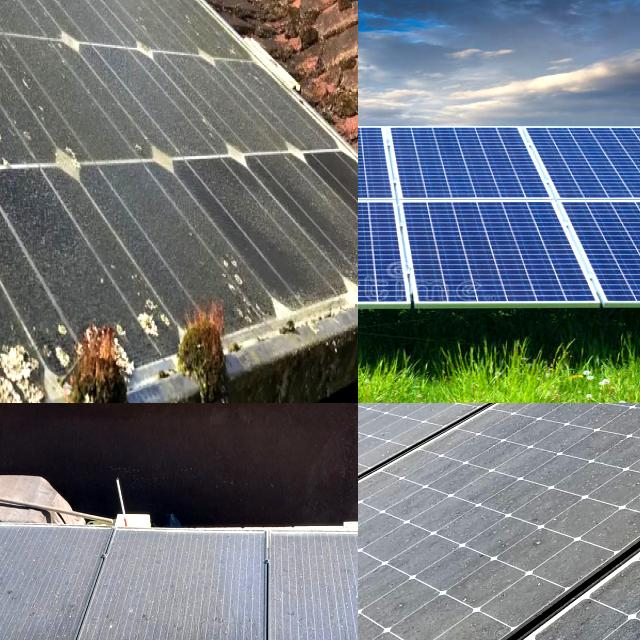crack: (358, 186, 640, 314), (371, 125, 568, 214), (358, 186, 499, 308), (358, 126, 462, 211), (358, 129, 448, 208)
dust: (0, 78, 162, 297), (437, 418, 607, 601), (171, 66, 277, 276), (0, 187, 74, 403), (102, 552, 254, 640), (0, 533, 87, 640), (0, 9, 56, 162), (358, 403, 457, 456), (54, 0, 119, 72), (358, 403, 518, 431), (0, 0, 63, 61), (552, 403, 640, 444), (358, 603, 441, 640)
